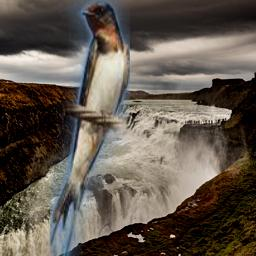Swallow: (50, 0, 130, 256)
